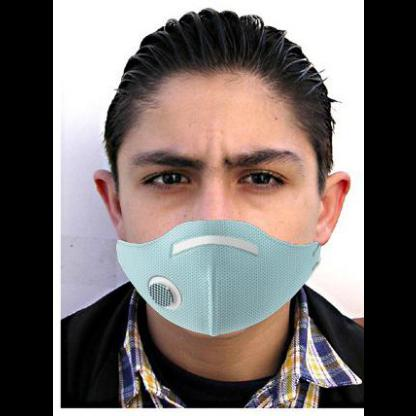FFP Mask: (108, 84, 336, 328)
